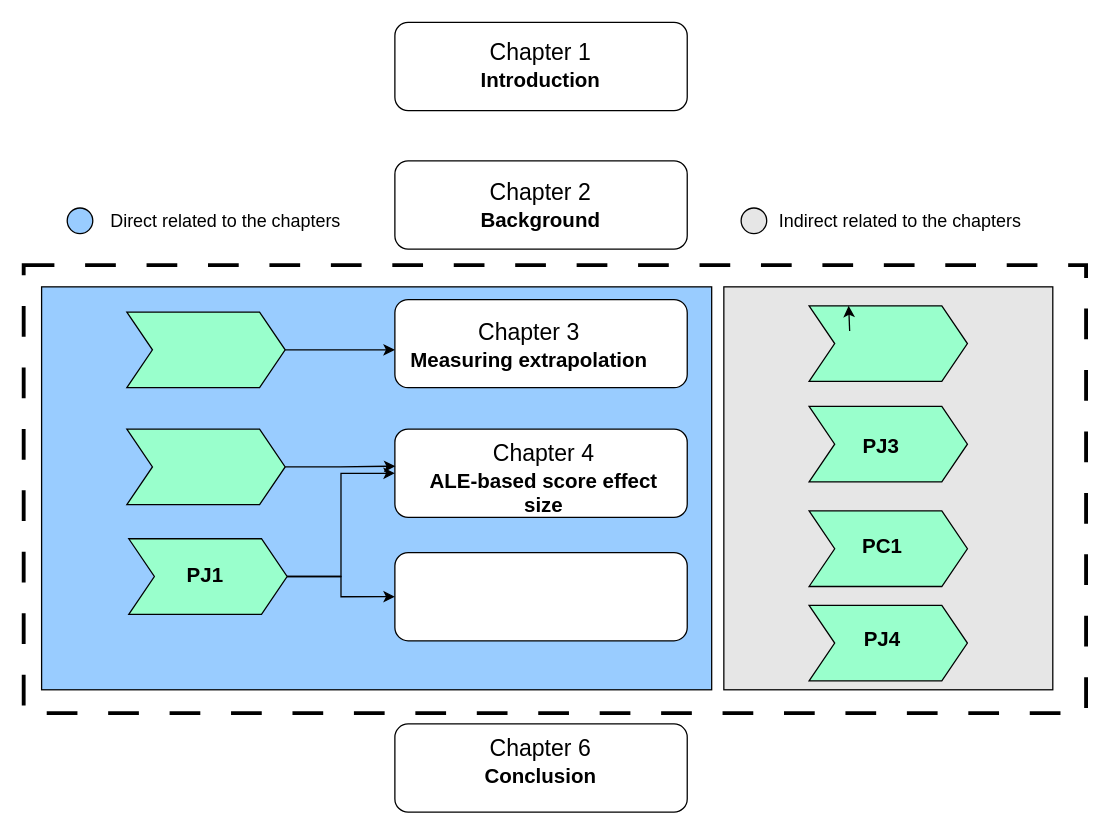
Some shapes in this 1114 by 835 pixel diagram are drawn without their labels. The shapes that lost their labels are listed below. From the top down, each one's centre as x and y in pixels, then its label:
(205,349): PJ5
(887,343): PJ2
(205,466): PC2
(540,596): Chapter 5 ALE-based score case study
